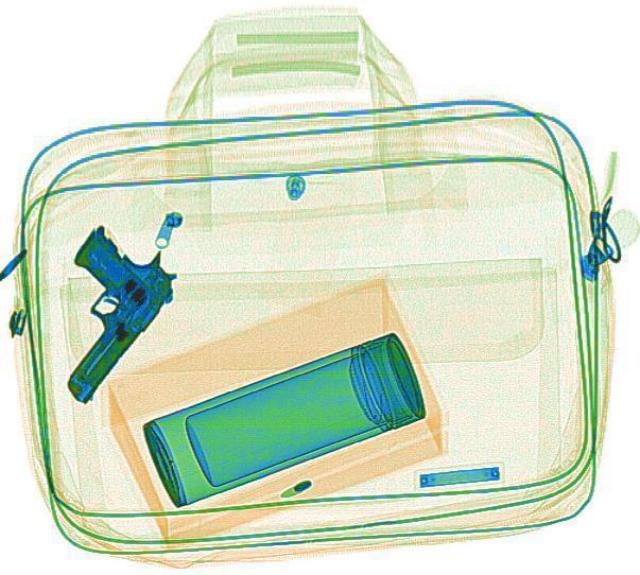Gun: (0, 218, 188, 391)
